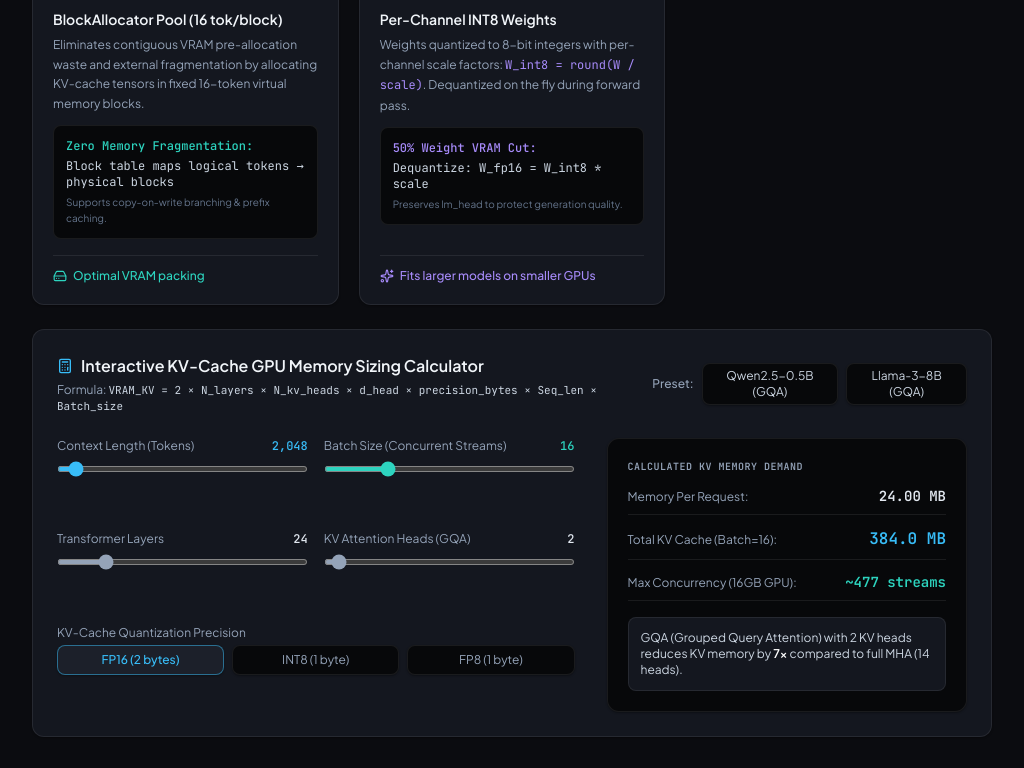
it: ArchitectureView Component › renders the interactive KV-cache memory sizing calculator and updates calculations on preset change
(page scrolled)
Expected: the text "Interactive KV-Cache GPU Memory Sizing Calculator" is shown, x1=81 y1=354 x2=484 y2=378
Click the button "Llama-3-8B (GQA)": (907, 384) x1=846 y1=363 x2=967 y2=405
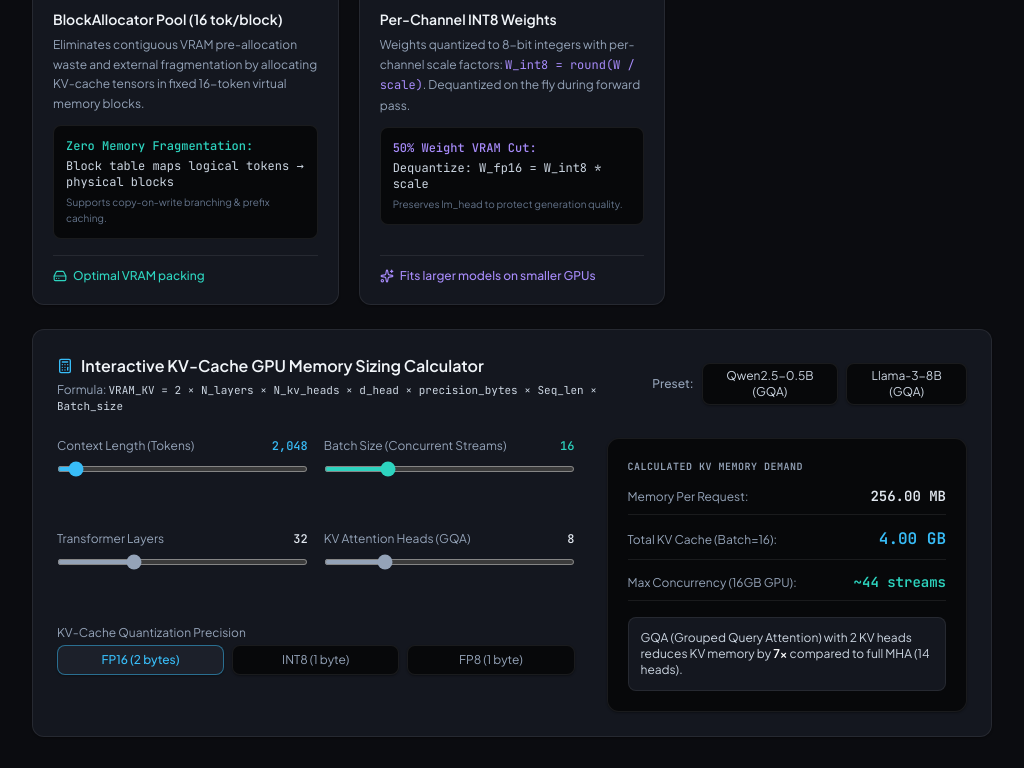
Expected: the text "32" is shown, x1=293 y1=531 x2=308 y2=547
Expected: the text "8" is shown, x1=567 y1=531 x2=574 y2=547
